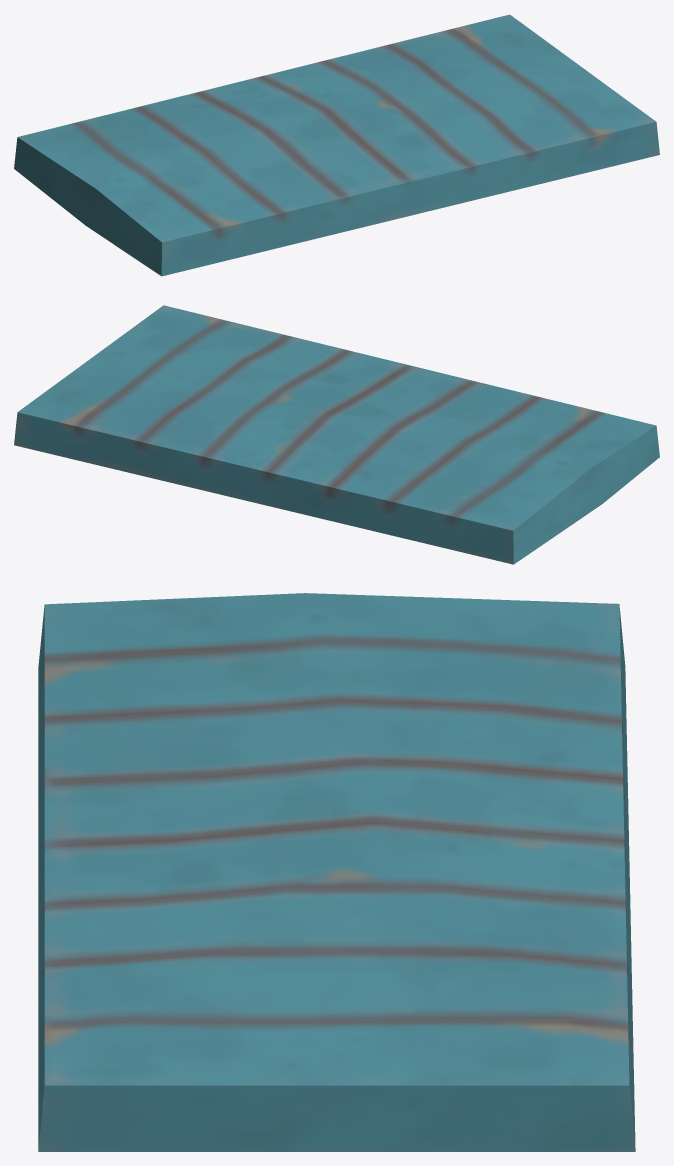
The model's file is Prfb_Quilt.fbx.
3 renders of one model, top to bottom at view 1: azimuth 30°, elevation 25°; view 2: azimuth 150°, elevation 25°; view 3: azimuth 270°, elevation 25°, orthographic. The views are drawn at different scales.
Parts seen in each view (by area): view 1: MAT_Camping_01; view 2: MAT_Camping_01; view 3: MAT_Camping_01.
Boxes of the visible parts, <box> form: MAT_Camping_01: <box>14,14,659,276</box>; MAT_Camping_01: <box>14,305,659,564</box>; MAT_Camping_01: <box>38,593,635,1151</box>.
Size of the model in its own units: 2 by 0.1654 by 1.02.
Materials: 1 (1 with a texture image).
